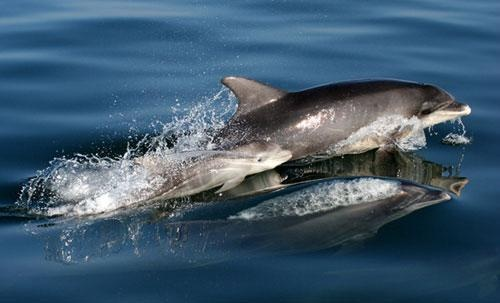fish: (175, 75, 472, 154), (47, 144, 298, 221)
